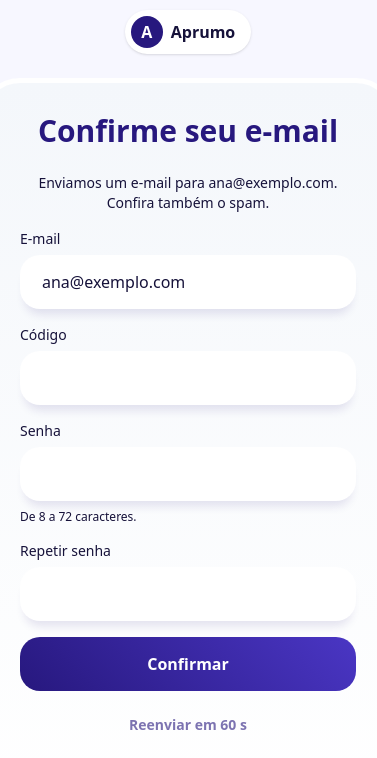
Test: ConfirmarPage com código › senhas_diferentes_bloqueiam_o_envio
The image size is (377, 758).
Type "123456" into the field labelled "Código" at (188, 378), box left=20, top=351, right=356, bottom=405
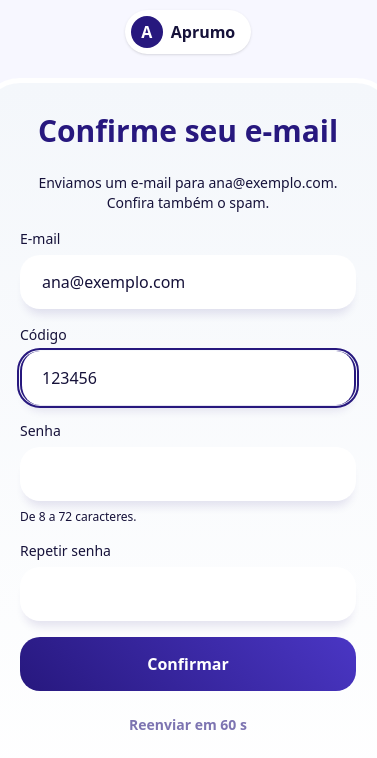
Type "senha-segura" into the password field labelled "Senha" at (188, 474), box left=20, top=447, right=356, bottom=501
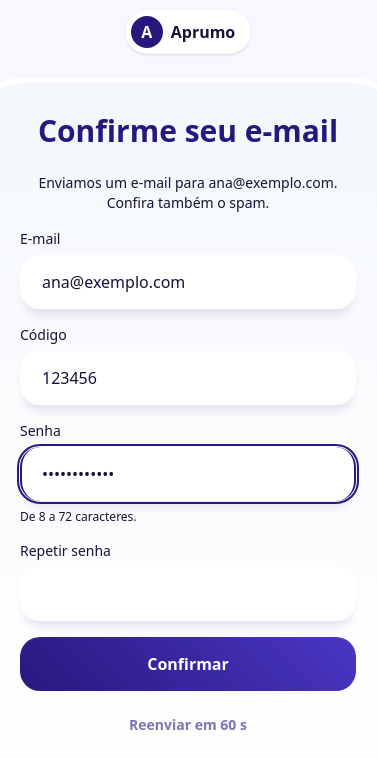
Type "senha-segurA" into the password field labelled "Repetir senha" at (188, 594), box left=20, top=567, right=356, bottom=621
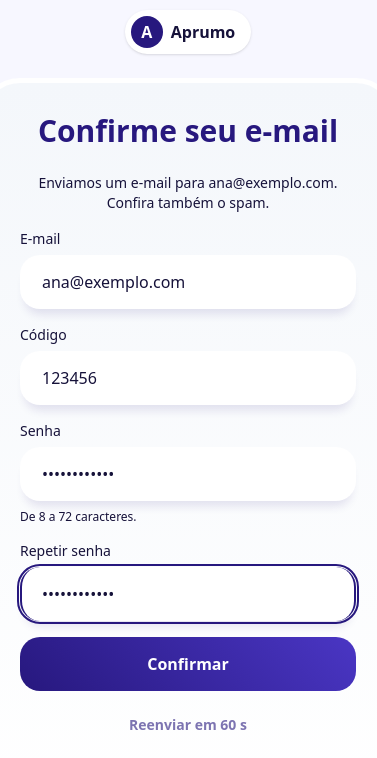
Click the button "Confirmar" at (188, 664), box left=20, top=637, right=356, bottom=691
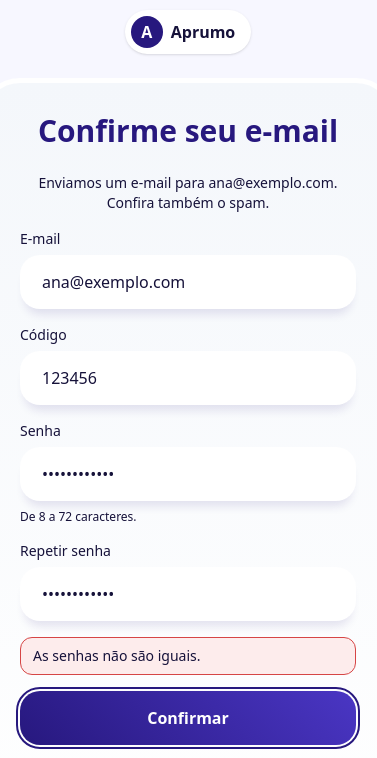
Expected: the button "Confirmar" is enabled, left=20, top=691, right=356, bottom=745
Expected: the message reads "As senhas não são iguais.", left=33, top=646, right=200, bottom=665
